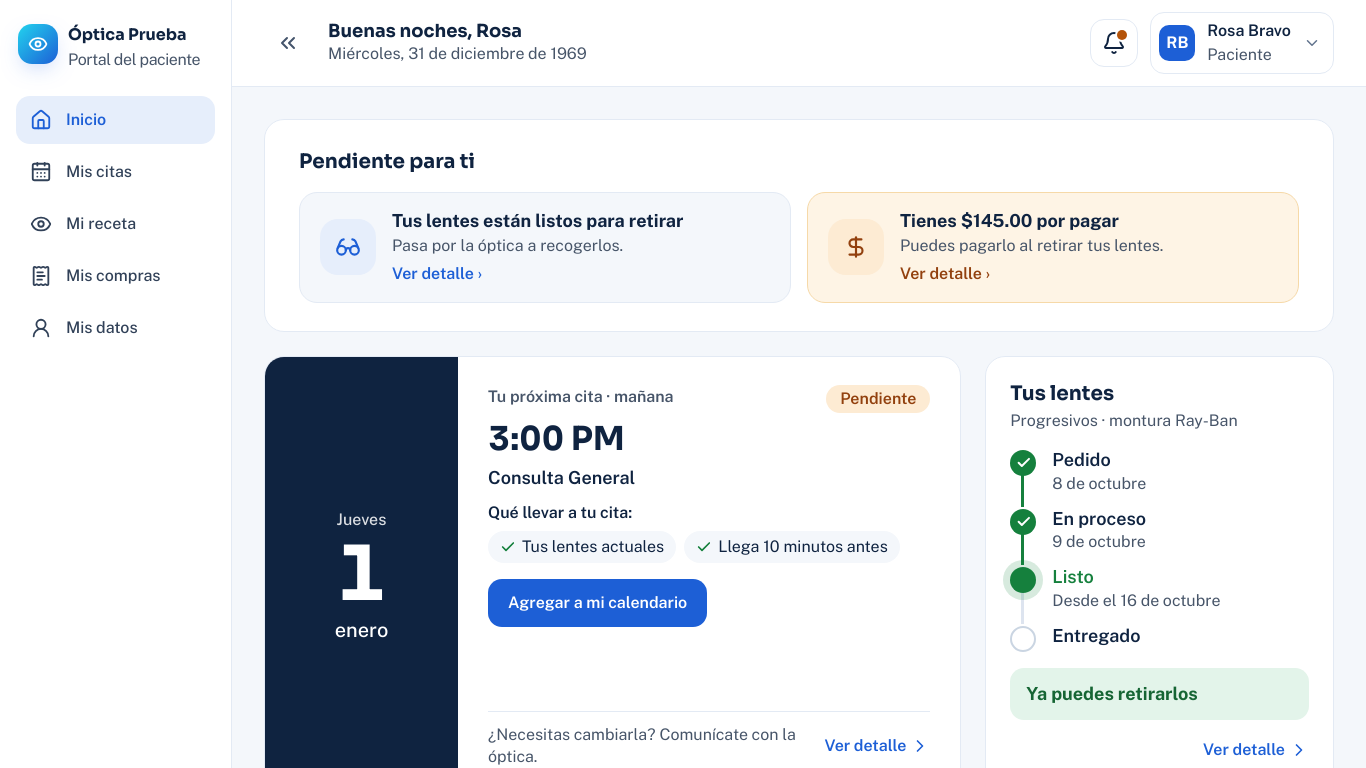
it: Cabecera › la campanita avisa de los lentes listos y de la cita de mañana, y cada aviso lleva a su pantalla
The image size is (1366, 768).
Click the button named "Avisos: tienes 2".
click(1114, 43)  # box [1090, 19, 1138, 67]
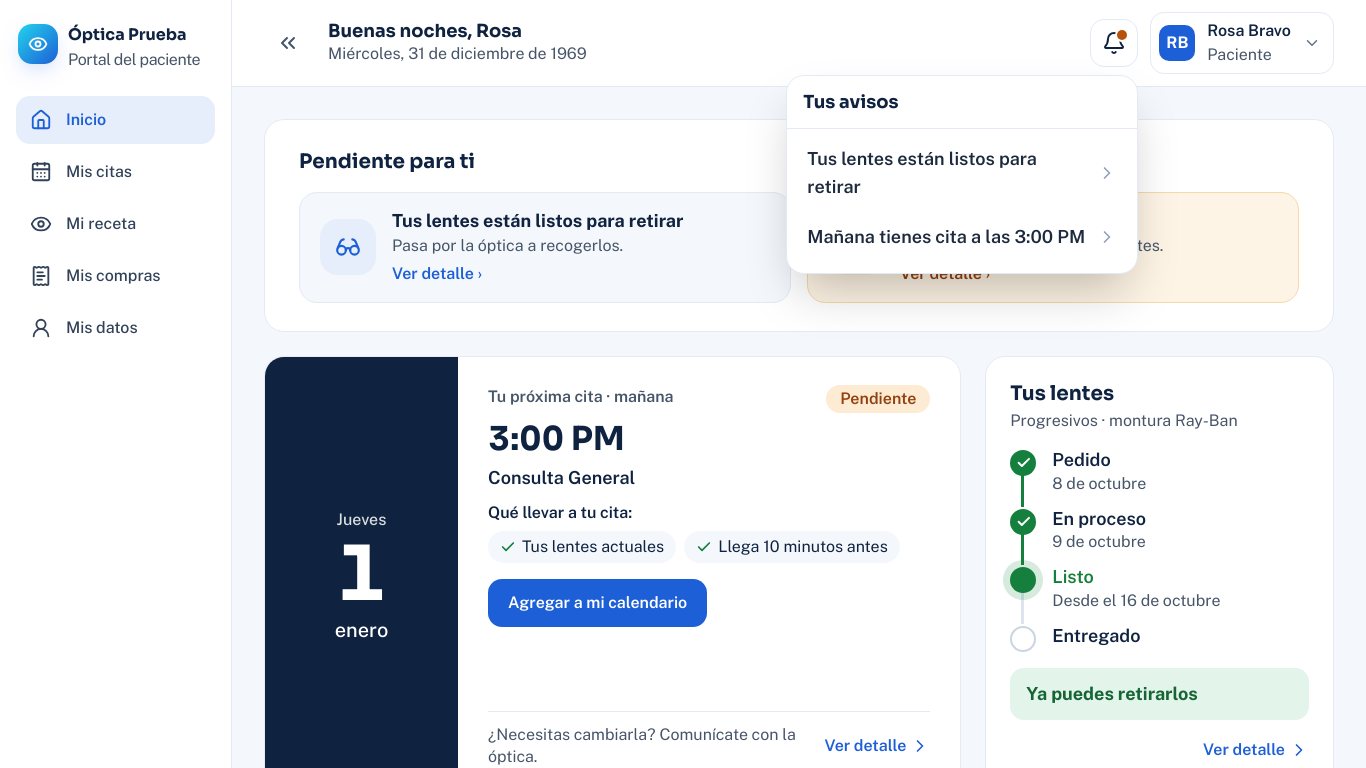
Now the menu "avisos" shows "Tus lentes están listos para retirar"
Now the menu "avisos" shows "Mañana tienes cita a las 3:00 PM", box [795, 209, 1129, 265]
Click the menu item "Tus lentes están listos para retirar".
click(922, 158)  # box [795, 137, 1129, 209]
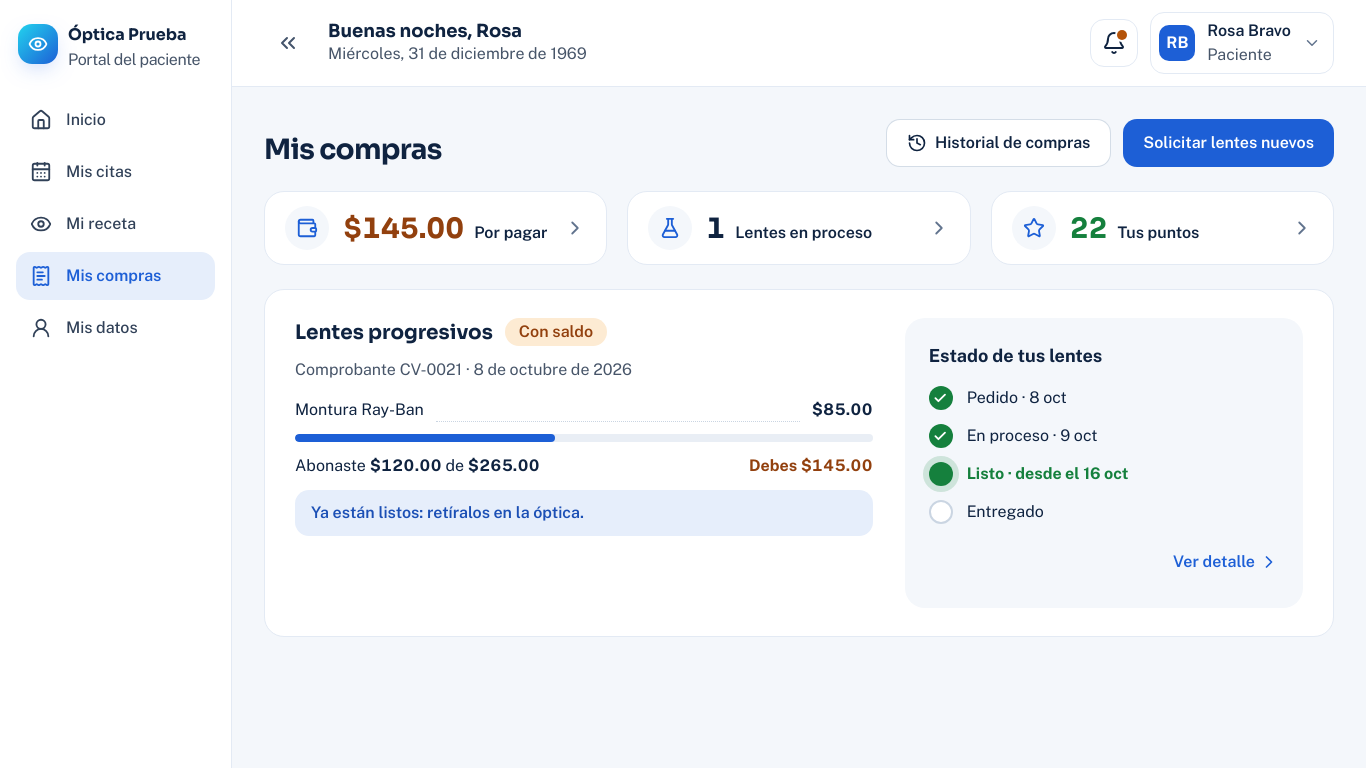
Now the heading "Mis compras" is shown, box [264, 132, 442, 167]
